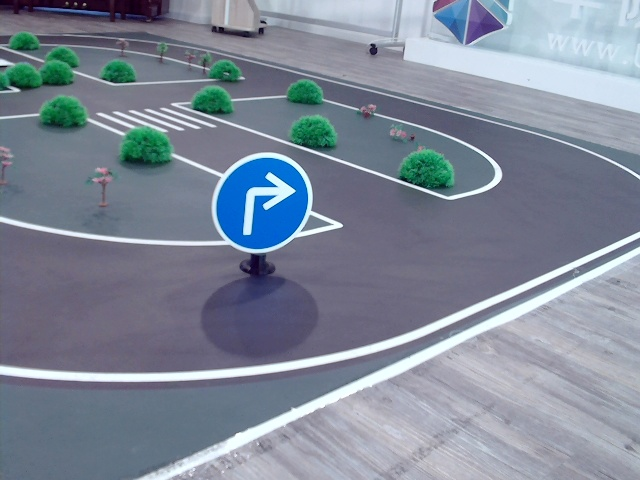turn_right: (238, 169, 293, 235)
